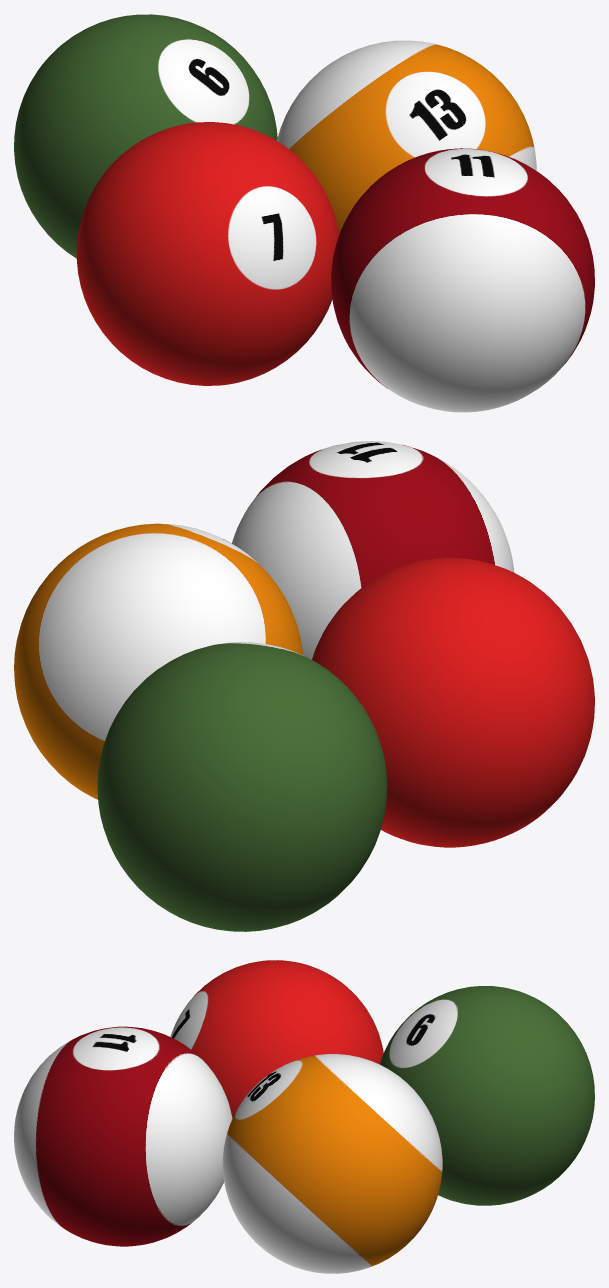
File: 4ball.obj
3 renders of one model, top to bottom at view 1: azimuth 30°, elevation 25°; view 2: azimuth 150°, elevation 25°; view 3: azimuth 270°, elevation 25°, orthographic. The views are drawn at different scales.
Parts seen in each view (by area): view 1: 11_메쉬.007, 7_메쉬.009, 6_메쉬.010, 13_메쉬.006; view 2: 6_메쉬.010, 7_메쉬.009, 13_메쉬.006, 11_메쉬.007; view 3: 13_메쉬.006, 11_메쉬.007, 6_메쉬.010, 7_메쉬.009.
Part boxes in pixels (x1=…): 11_메쉬.007: x1=331, y1=148, x2=594, y2=412; 7_메쉬.009: x1=76, y1=122, x2=339, y2=385; 6_메쉬.010: x1=14, y1=14, x2=277, y2=258; 13_메쉬.006: x1=276, y1=40, x2=536, y2=233; 6_메쉬.010: x1=97, y1=642, x2=387, y2=931; 7_메쉬.009: x1=312, y1=557, x2=594, y2=847; 13_메쉬.006: x1=14, y1=523, x2=302, y2=799; 11_메쉬.007: x1=231, y1=441, x2=514, y2=659; 13_메쉬.006: x1=222, y1=1054, x2=442, y2=1273; 11_메쉬.007: x1=14, y1=1026, x2=232, y2=1246; 6_메쉬.010: x1=379, y1=986, x2=594, y2=1205; 7_메쉬.009: x1=170, y1=960, x2=383, y2=1118.
Bounding box in the file's own units: 0.8414 × 0.419 × 1.11.
4 materials, 4 textured.
